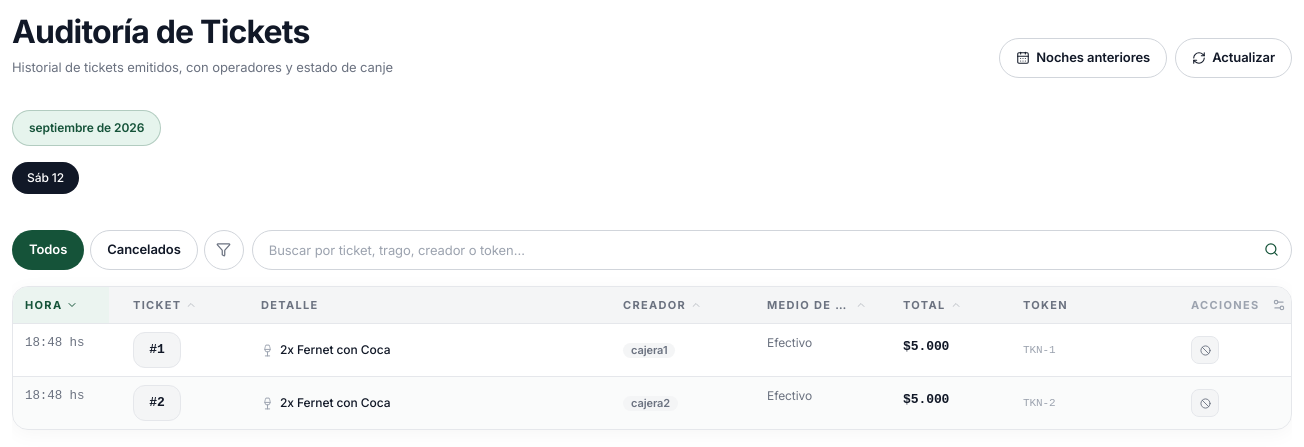
Test: LogsSection › filtra los tickets con el buscador
Expected: the text "#2" is shown, [133,385,181,421]
Type "cajera2" into the field with placeholder "Buscar por ticket, trago, creador o token…". click: (752, 250)
box: [253,230,1251,268]
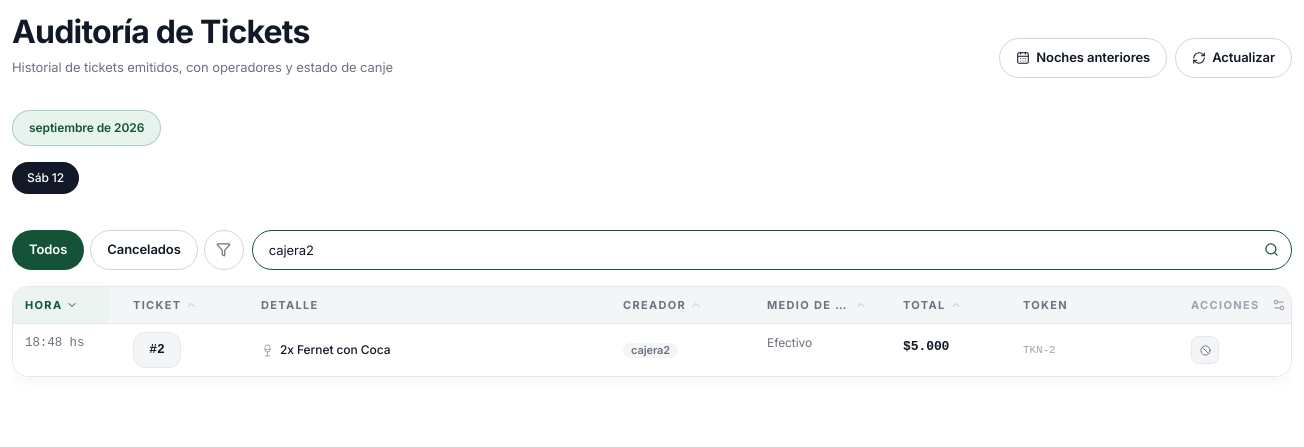
Expected: the text "#2" is shown, [133,332,181,368]
Result: the text "#1" is gone
